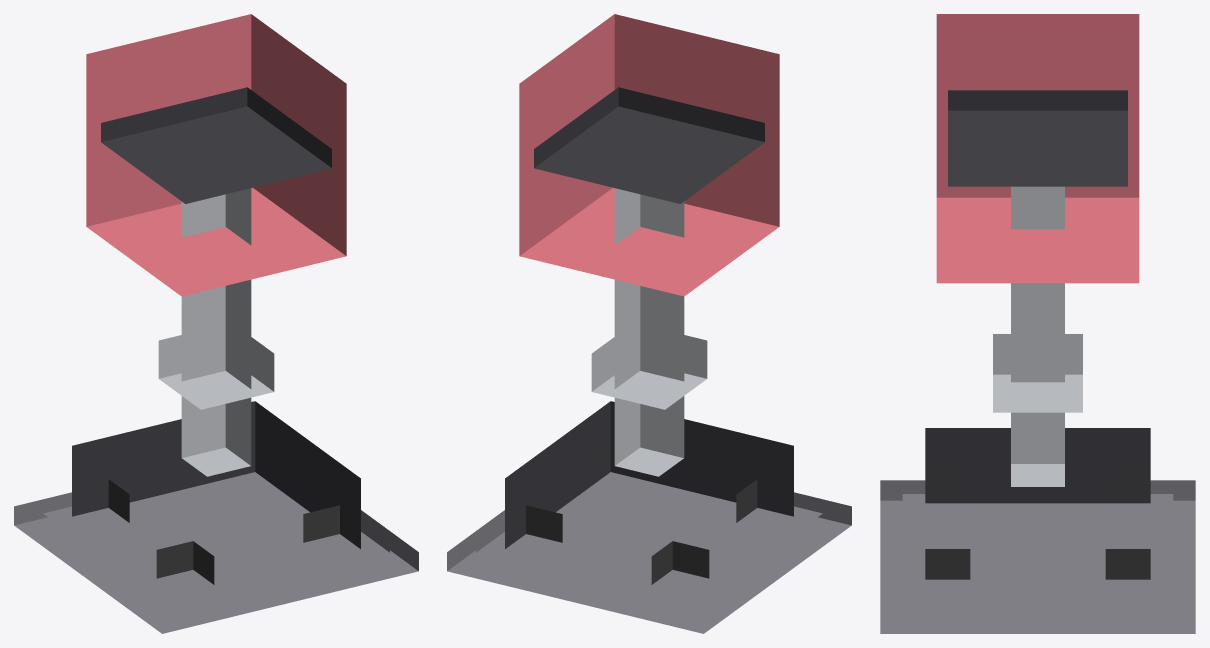
The model's file is joystick.gltf.
3 renders of one model, left to right at view 1: azimuth 30°, elevation 25°; view 2: azimuth 150°, elevation 25°; view 3: azimuth 270°, elevation 25°, orthographic. The views are drawn at different scales.
Parts seen in each view (by area): view 1: joystick; view 2: joystick; view 3: joystick.
Boxes of the visible parts, <box> form: joystick: <box>14,14,418,633</box>; joystick: <box>447,14,851,633</box>; joystick: <box>880,14,1195,633</box>.
Bounding box in the file's own units: 0.07 × 0.125 × 0.07.
